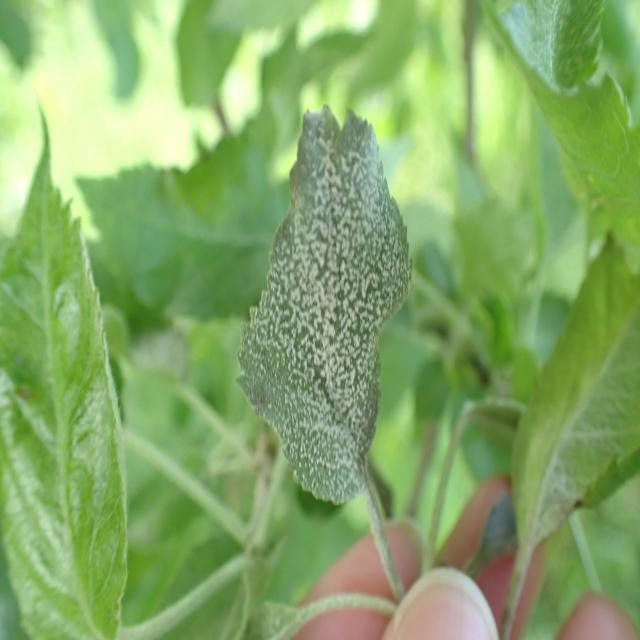Powdery_mildew: (222, 89, 425, 519)
